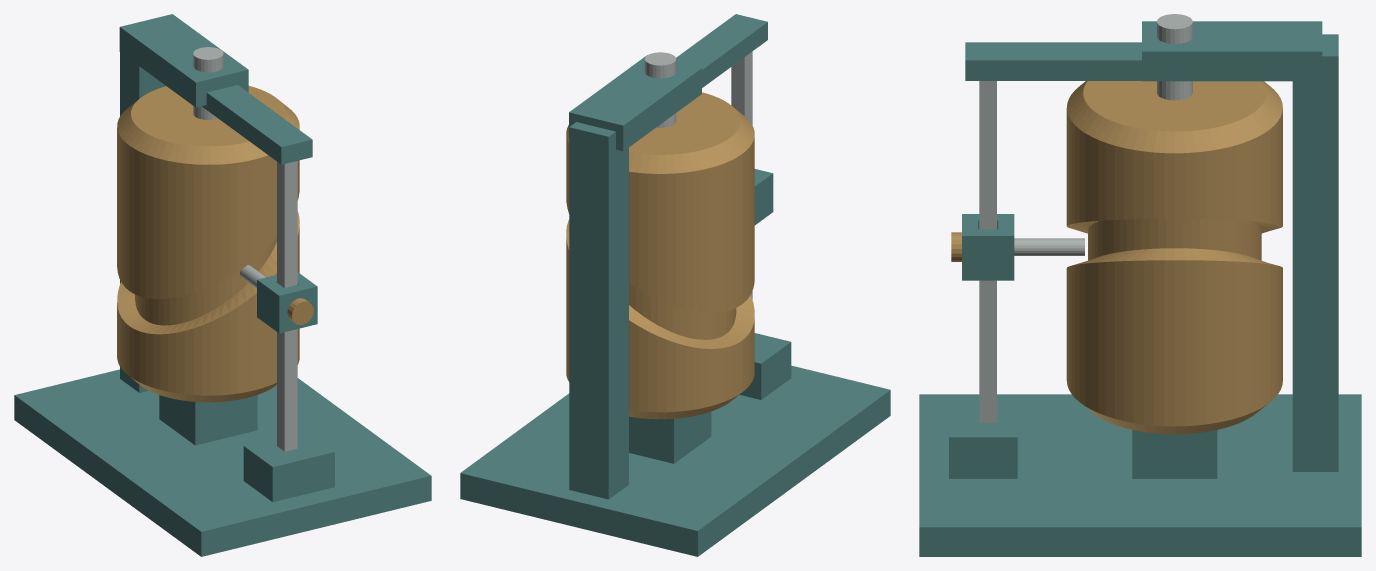
The picture shows the model from 3 angles, left to right: view 1: azimuth 30°, elevation 25°; view 2: azimuth 150°, elevation 25°; view 3: azimuth 270°, elevation 25°; orthographic projection. The views are drawn at different scales.
Parts seen in each view (by area): view 1: WholeContinuousWaveGroovedBarrel, WholeCommonGroundBed, WholeUpperCantileverBearingBeam, WholeVerticalSquareFollowerGuide, WholeGuideLowerRoot, WholeGuideUpperBridge, WholeLowerDrumShaftPedestal, WholeThroughBoredFollowerSlider, WholeRearUpperBearingPost, WholeVerticalDrumAxle, WholeProudFollowerBackRetainer; view 2: WholeContinuousWaveGroovedBarrel, WholeCommonGroundBed, WholeRearUpperBearingPost, WholeUpperCantileverBearingBeam, WholeGuideUpperBridge, WholeLowerDrumShaftPedestal, WholeGuideLowerRoot, WholeVerticalSquareFollowerGuide, WholeThroughBoredFollowerSlider, WholeVerticalDrumAxle; view 3: WholeContinuousWaveGroovedBarrel, WholeCommonGroundBed, WholeRearUpperBearingPost, WholeUpperCantileverBearingBeam, WholeGuideUpperBridge, WholeVerticalSquareFollowerGuide, WholeGuideLowerRoot, WholeLowerDrumShaftPedestal, WholeThroughBoredFollowerSlider, WholeVerticalDrumAxle, WholeRadialGrooveFollowerPin.
Boxes of the visible parts, left/top/right/bottom form: WholeContinuousWaveGroovedBarrel: left=117, top=86, right=299, bottom=402; WholeCommonGroundBed: left=14, top=369, right=431, bottom=556; WholeUpperCantileverBearingBeam: left=119, top=14, right=248, bottom=107; WholeVerticalSquareFollowerGuide: left=277, top=161, right=297, bottom=451; WholeGuideLowerRoot: left=243, top=431, right=334, bottom=501; WholeGuideUpperBridge: left=202, top=85, right=312, bottom=164; WholeLowerDrumShaftPedestal: left=159, top=395, right=257, bottom=445; WholeThroughBoredFollowerSlider: left=257, top=272, right=317, bottom=333; WholeRearUpperBearingPost: left=120, top=52, right=166, bottom=392; WholeVerticalDrumAxle: left=193, top=47, right=223, bottom=119; WholeProudFollowerBackRetainer: left=287, top=298, right=313, bottom=324; WholeContinuousWaveGroovedBarrel: left=566, top=92, right=754, bottom=419; WholeCommonGroundBed: left=460, top=365, right=890, bottom=556; WholeRearUpperBearingPost: left=569, top=122, right=628, bottom=499; WholeUpperCantileverBearingBeam: left=569, top=55, right=701, bottom=151; WholeGuideUpperBridge: left=676, top=14, right=767, bottom=87; WholeLowerDrumShaftPedestal: left=629, top=411, right=711, bottom=463; WholeGuideLowerRoot: left=739, top=333, right=791, bottom=399; WholeVerticalSquareFollowerGuide: left=731, top=51, right=752, bottom=299; WholeThroughBoredFollowerSlider: left=754, top=169, right=773, bottom=225; WholeVerticalDrumAxle: left=644, top=52, right=676, bottom=127; WholeContinuousWaveGroovedBarrel: left=1066, top=81, right=1282, bottom=434; WholeCommonGroundBed: left=919, top=394, right=1361, bottom=556; WholeRearUpperBearingPost: left=1292, top=34, right=1338, bottom=471; WholeUpperCantileverBearingBeam: left=1142, top=21, right=1322, bottom=81; WholeGuideUpperBridge: left=965, top=42, right=1141, bottom=80; WholeVerticalSquareFollowerGuide: left=979, top=81, right=996, bottom=422; WholeGuideLowerRoot: left=949, top=401, right=1017, bottom=478; WholeLowerDrumShaftPedestal: left=1132, top=430, right=1217, bottom=478; WholeThroughBoredFollowerSlider: left=962, top=214, right=1014, bottom=280; WholeVerticalDrumAxle: left=1157, top=14, right=1192, bottom=100; WholeRadialGrooveFollowerPin: left=1014, top=238, right=1084, bottom=255.
Bounding box in the file's own units: 0.96 × 1.58 × 1.35.
